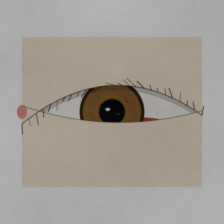hemorrhage_spot: (94, 91, 187, 165)
